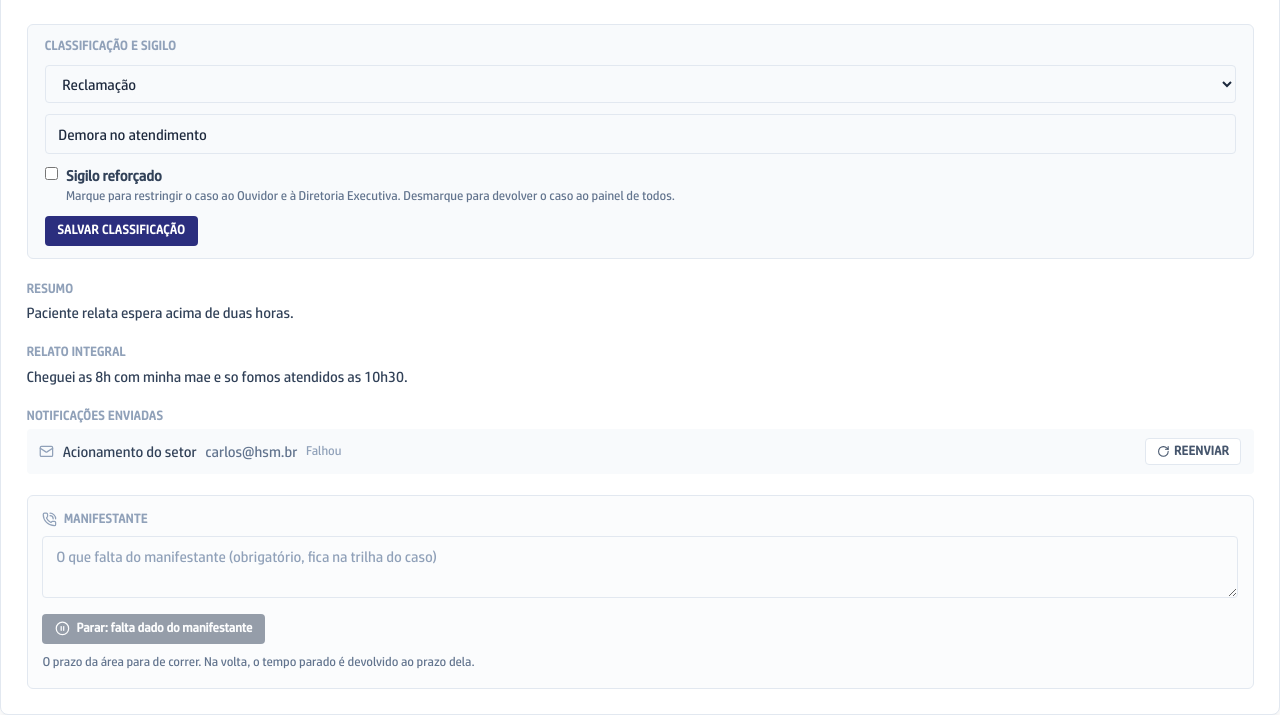
it: o motivo da recusa do reenvio na tela (issue #707) › reenvio que saiu diz para quem foi
This screenshot has width=1280, height=715.
(page scrolled)
Click the button "Reenviar". click: x=1193, y=452
box: [1145, 438, 1241, 465]
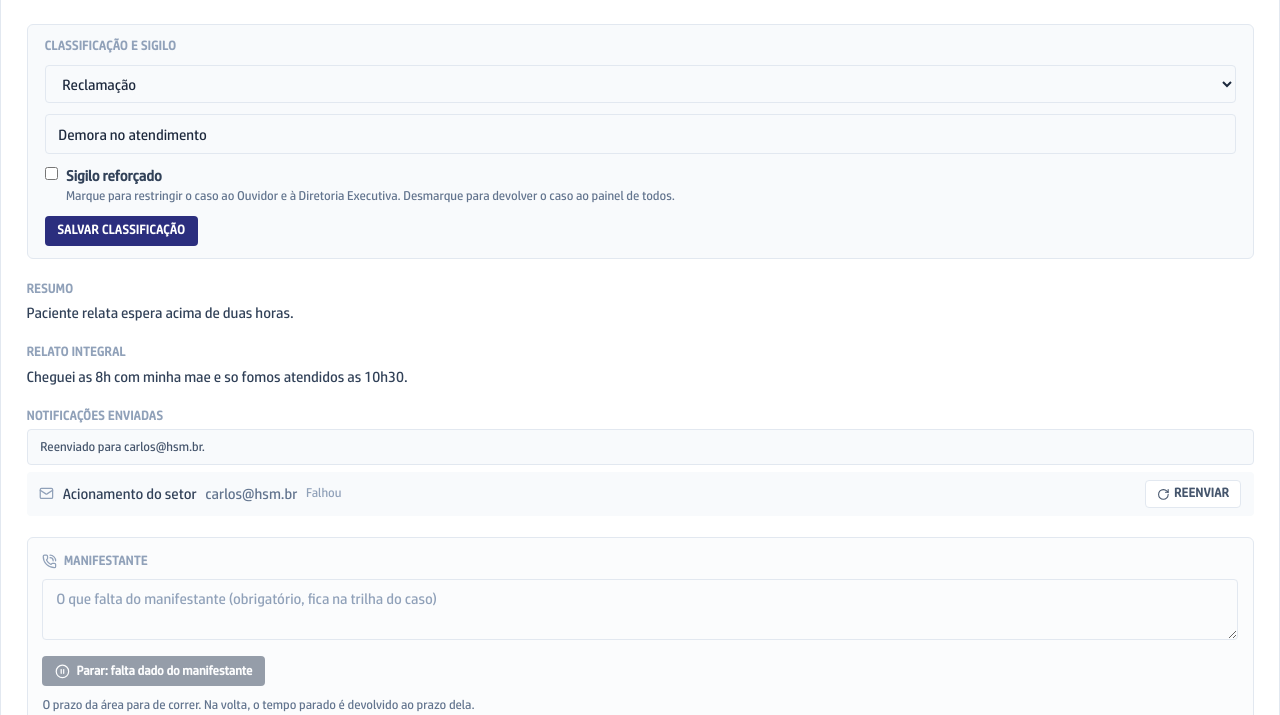
Now the text "Reenviado para carlos@hsm.br." is shown, box [26, 429, 1254, 465]
